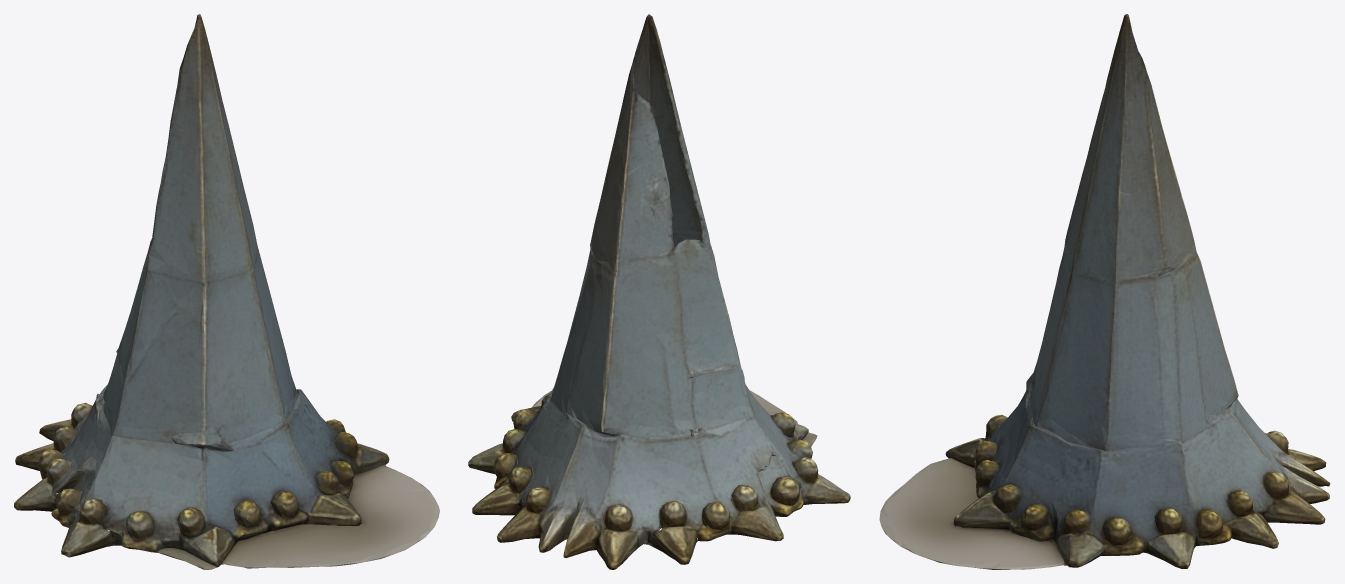
The model's file is bp_spike.glb.
The picture shows the model from 3 angles, left to right: view 1: azimuth 30°, elevation 25°; view 2: azimuth 150°, elevation 25°; view 3: azimuth 270°, elevation 25°; orthographic projection. The views are drawn at different scales.
Visible parts, largest first — view 1: world; view 2: world; view 3: world.
Part boxes in pixels (x1,y1,x2,y2): world: (14, 14, 439, 569); world: (468, 14, 850, 569); world: (879, 14, 1330, 569).
Size of the model in its own units: 0.7333 by 0.9978 by 0.8445.
Materials: 1 (1 with a texture image).
